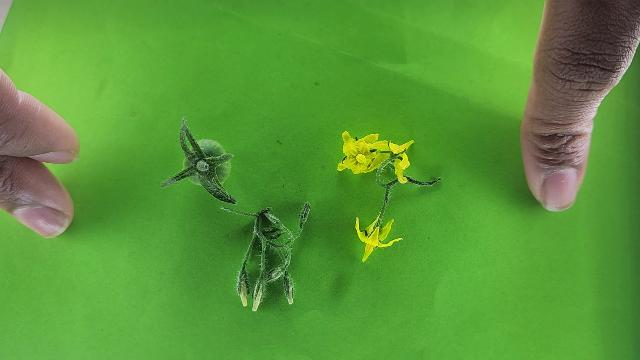Anthesis: (354, 213, 403, 264), (337, 130, 392, 175), (377, 138, 417, 183)
Flower Bud: (297, 201, 311, 237), (252, 291, 262, 312), (240, 280, 248, 304), (287, 286, 293, 305)
Fruit Maturation: (185, 139, 231, 187)
